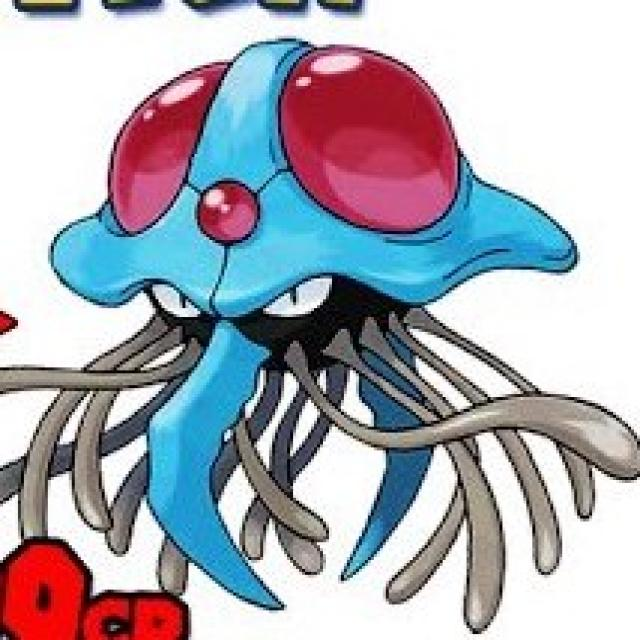Tentacruel: (80, 48, 498, 516)
